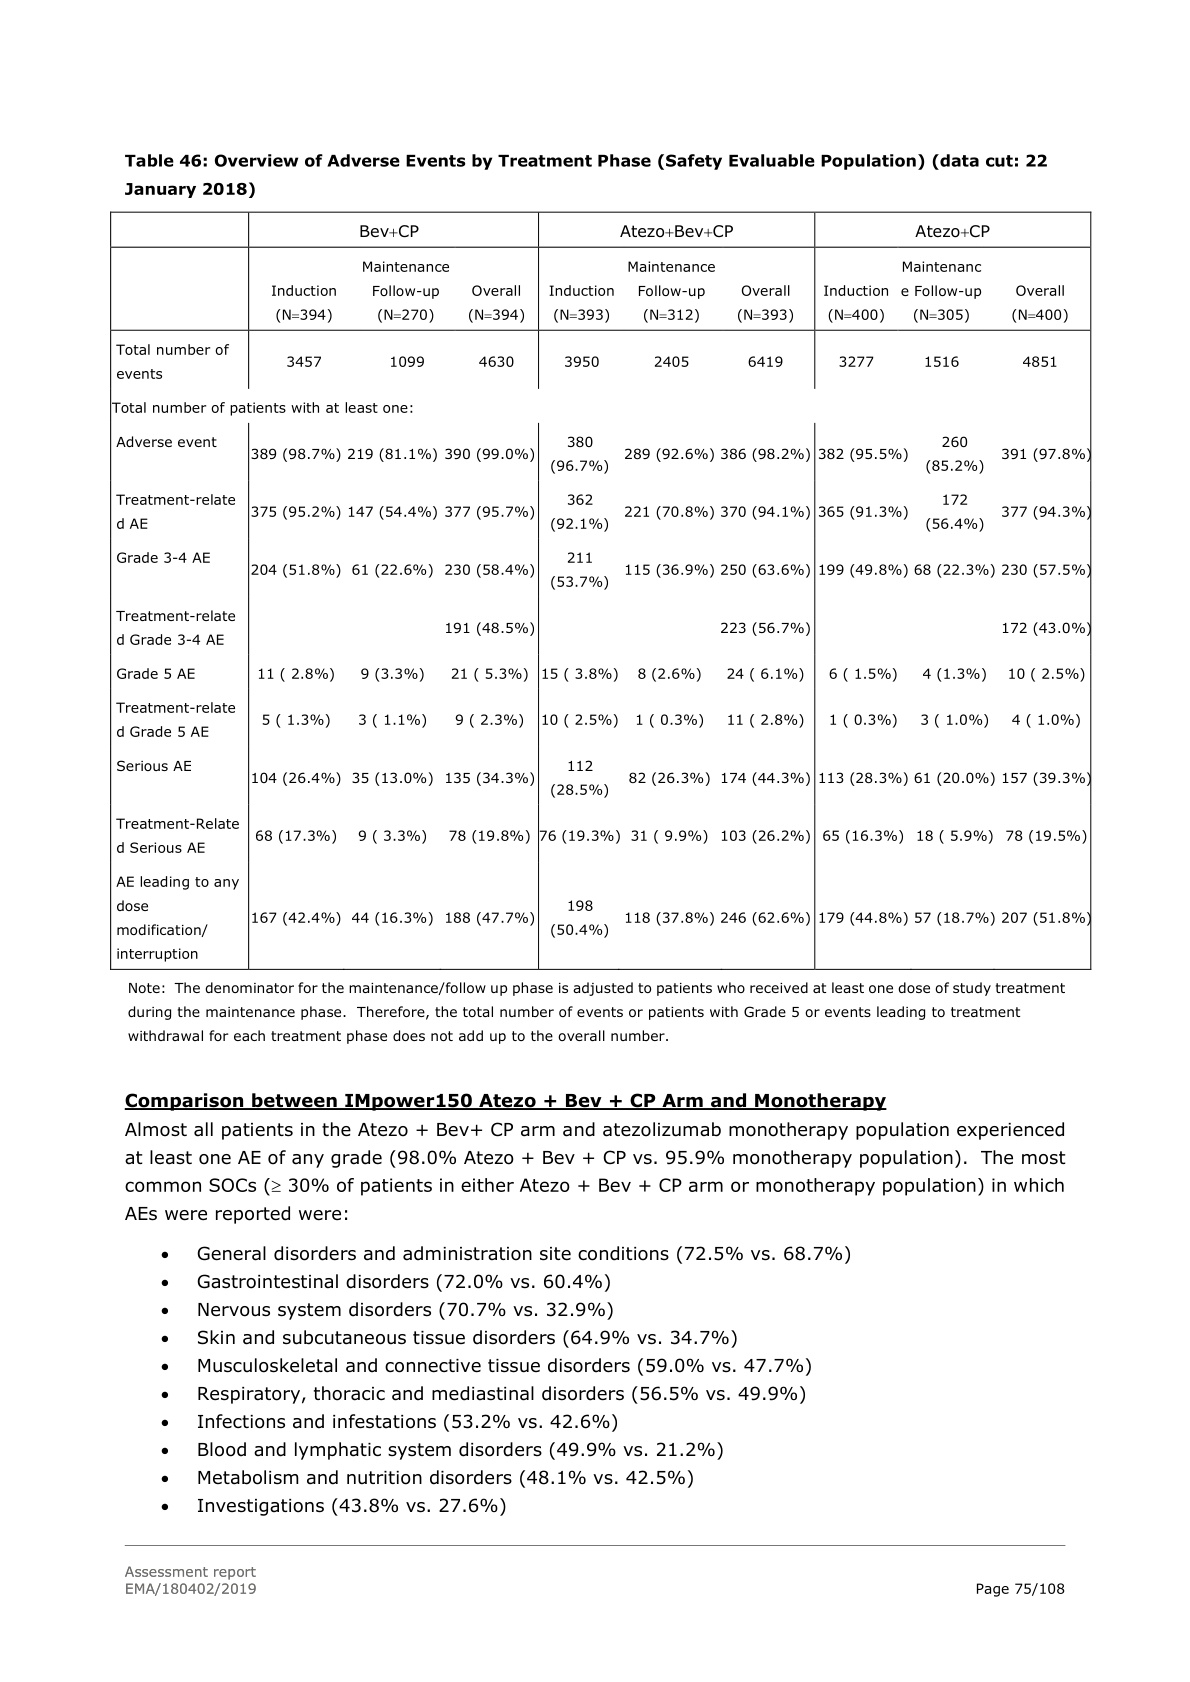partial_lined: (109, 211, 1093, 971)
